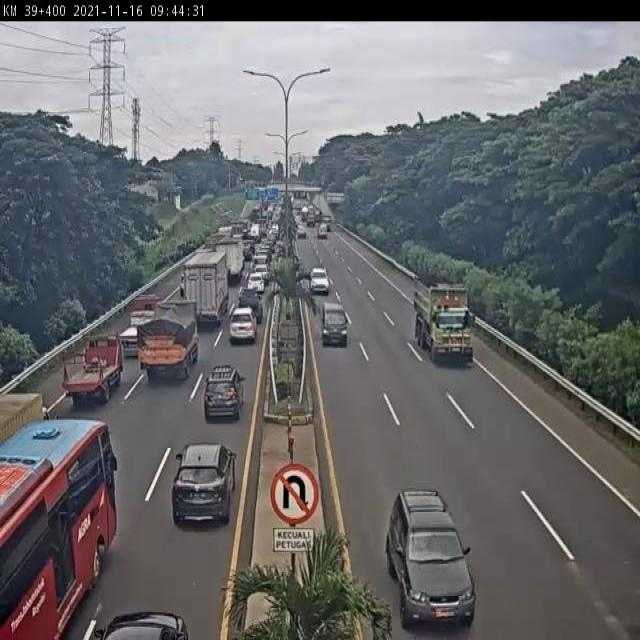Bus: (0, 418, 117, 638)
Car: (385, 488, 478, 630), (171, 441, 237, 526), (90, 609, 190, 640), (203, 364, 246, 422), (321, 300, 348, 347), (228, 306, 258, 344), (238, 286, 264, 322), (120, 326, 140, 358), (310, 268, 329, 294), (246, 272, 266, 295), (253, 264, 271, 287), (320, 215, 332, 230), (318, 224, 328, 239)
Truck: (414, 272, 479, 361), (140, 304, 202, 383), (62, 334, 122, 404), (178, 248, 230, 320)
